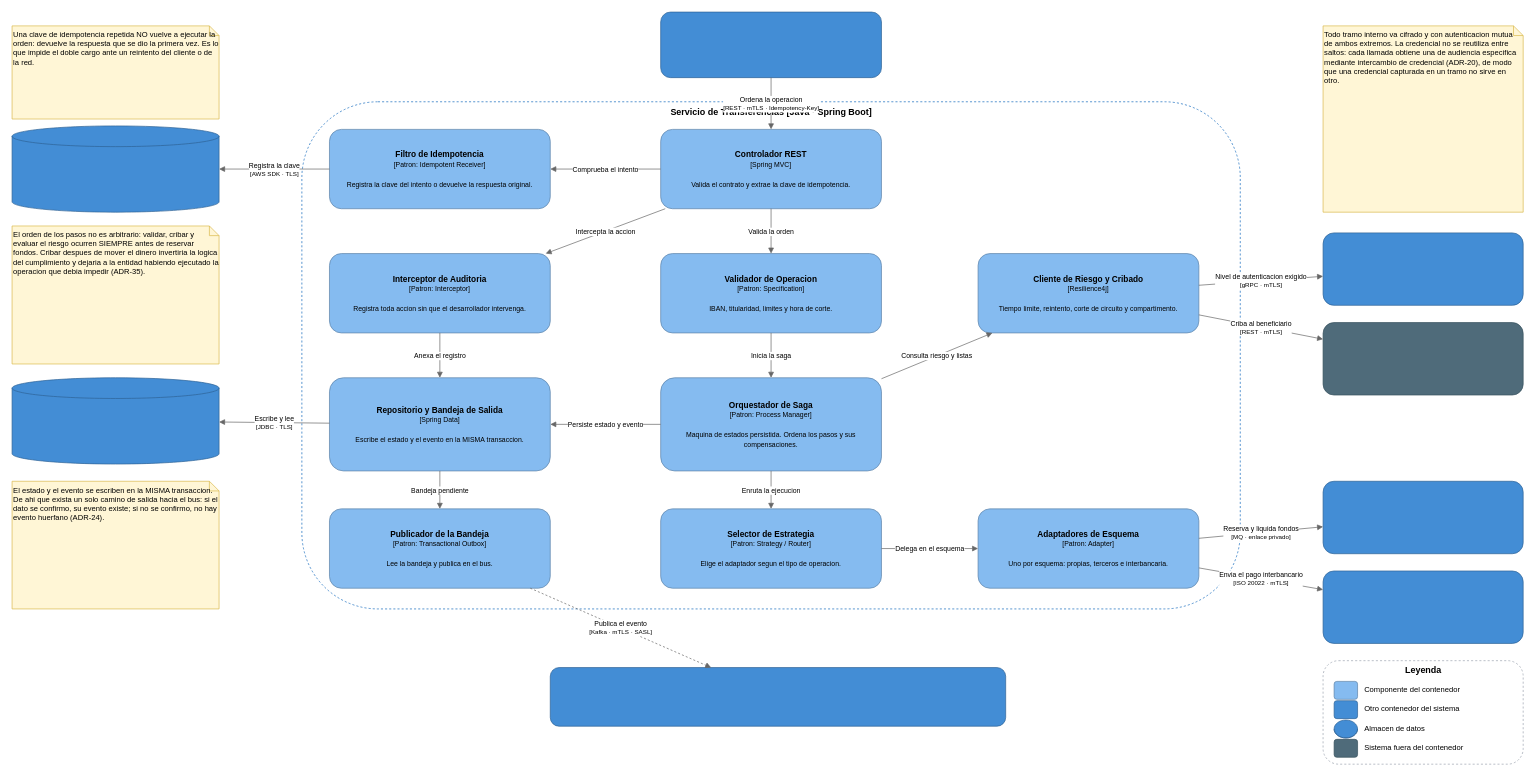
Some shapes in this 1535 by 776 pixel diagram are drawn without their labels. The centre of each missing label's shape, as x and y in pixels:
"Adaptador de Core [Contenedor]" goes at pixel 1422 517.
"Adaptador de Pagos [Contenedor]" goes at pixel 1422 606.
"Backend de canal [Spring Boot] Web y movil" goes at pixel 770 44.
"Bus de eventos [Amazon MSK] Unica salida de eventos del servicio" goes at pixel 778 696.
"Cribado Corporativo [Sistema del banco]" goes at pixel 1422 358.
"Idempotencia [DynamoDB] Clave de intento · caduca a 24 h" goes at pixel 115 168.
"Operaciones [Aurora PostgreSQL] Estado y bandeja de salida" goes at pixel 115 420.
"Politica de Riesgo [Contenedor]" goes at pixel 1422 268.
